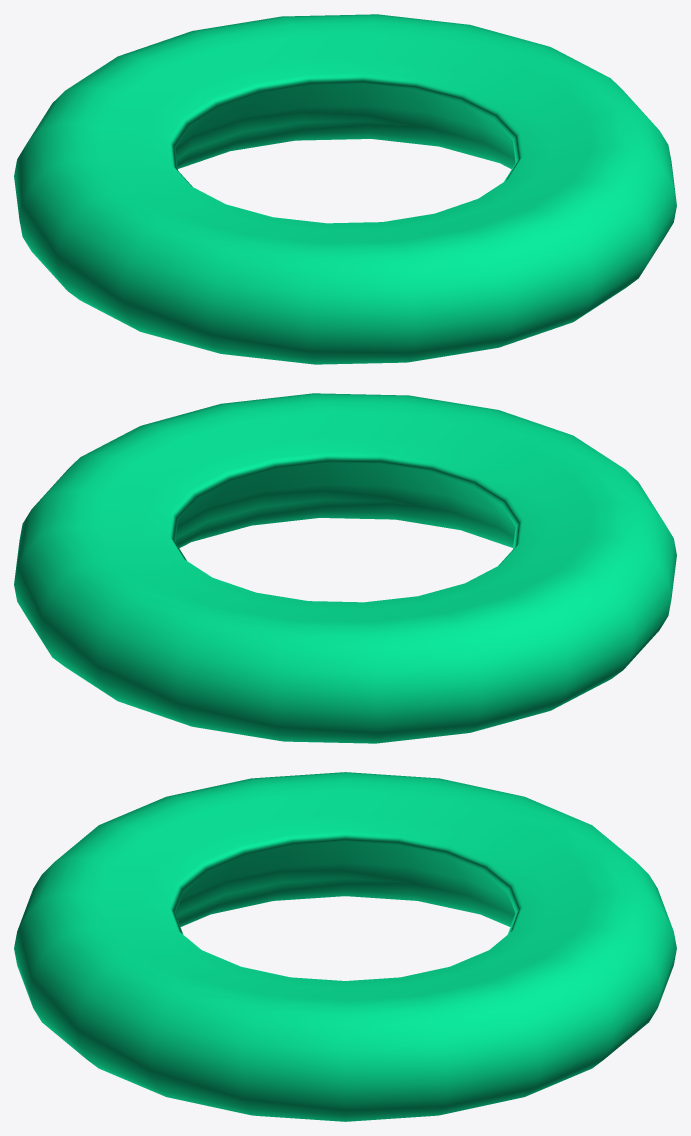
File: CollisionTorus (1).fbx
3 views of the same model, one above another, from view 1: azimuth 30°, elevation 25°; view 2: azimuth 150°, elevation 25°; view 3: azimuth 270°, elevation 25° (orthographic).
Visible parts, largest first — view 1: pTorus29; view 2: pTorus29; view 3: pTorus29.
Part boxes in pixels (x1=…): pTorus29: x1=14, y1=14, x2=676, y2=364; pTorus29: x1=14, y1=393, x2=676, y2=743; pTorus29: x1=14, y1=772, x2=676, y2=1121.
Size of the model in its own units: 1327 by 242 by 1327.
